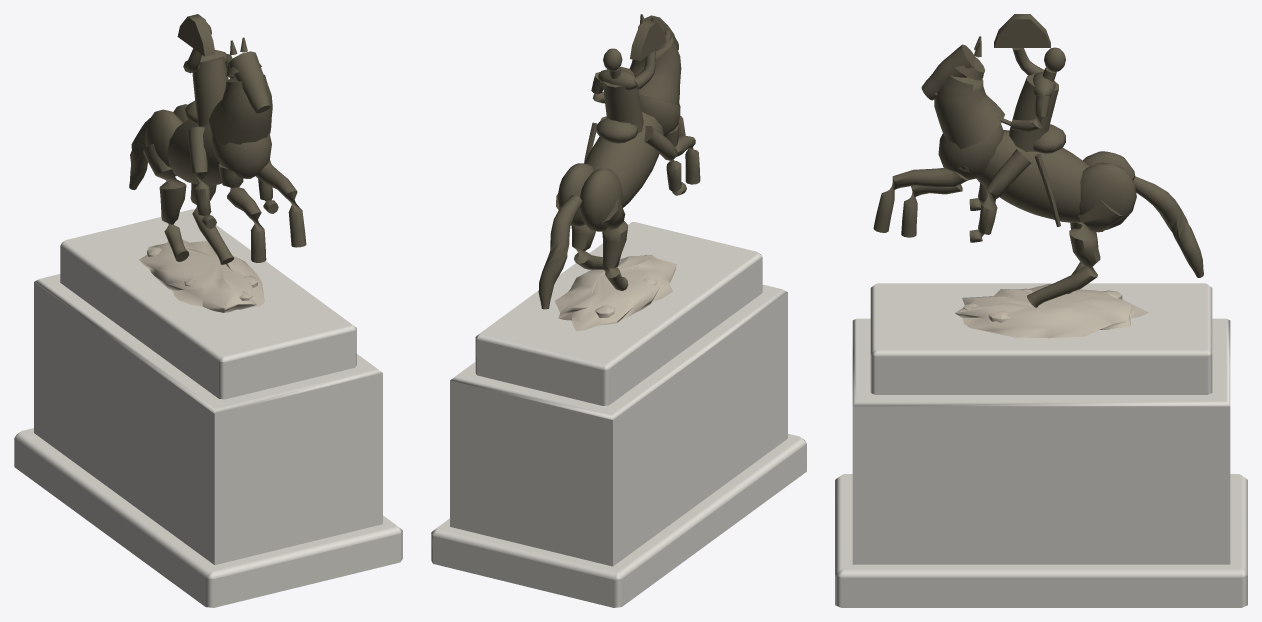
The model's file is nola-andrew-jackson-statue.glb.
3 renders of one model, left to right at view 1: azimuth 30°, elevation 25°; view 2: azimuth 150°, elevation 25°; view 3: azimuth 270°, elevation 25°, orthographic. The views are drawn at different scales.
Parts seen in each view (by area): view 1: Andrew Jackson; view 2: Andrew Jackson; view 3: Andrew Jackson.
Boxes of the visible parts, left/top/right/bottom form: Andrew Jackson: left=14, top=14, right=402, bottom=607; Andrew Jackson: left=431, top=14, right=806, bottom=607; Andrew Jackson: left=835, top=14, right=1247, bottom=607.
Bounding box in the file's own units: 3 × 7.37 × 5.2.
